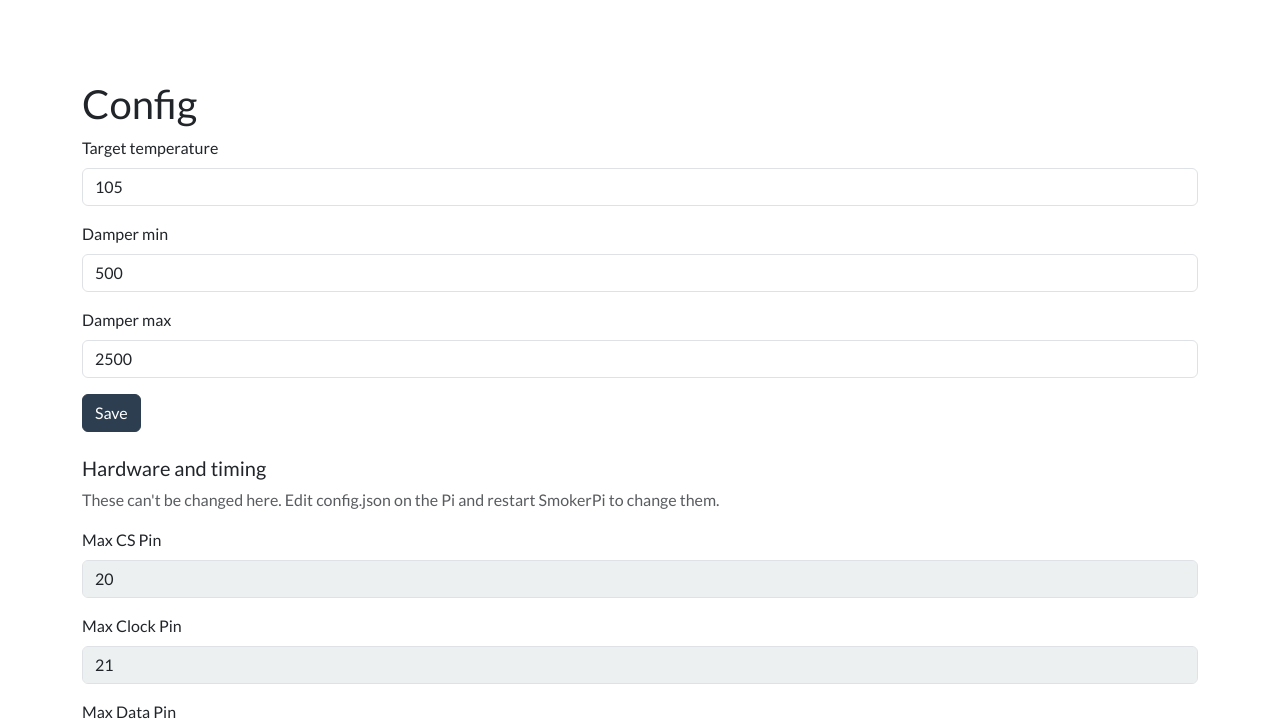
clearing the required target temperature keeps the form; Save shows an error and does not post
The width and height of the screenshot is (1280, 727).
Clear the field labelled "Target temperature" at point(640, 187), box [82,168,1198,206]
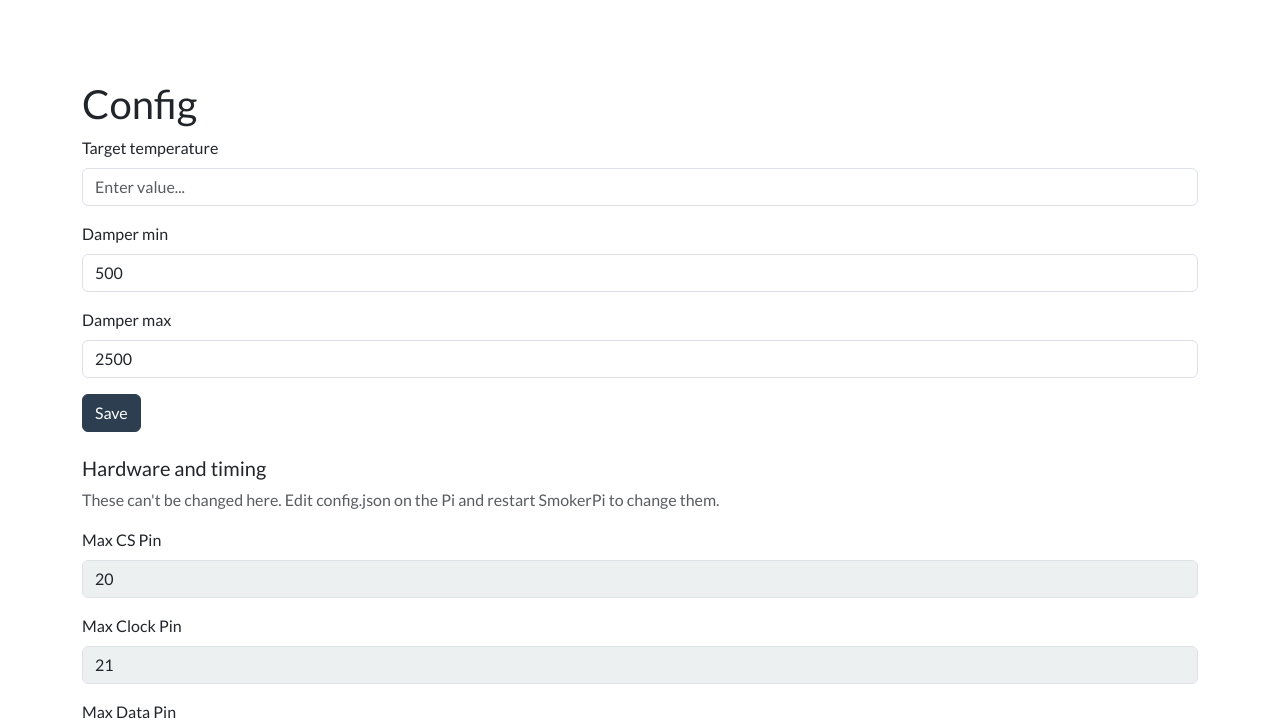
Click the button "Save" at point(111, 413), box [82,394,141,432]
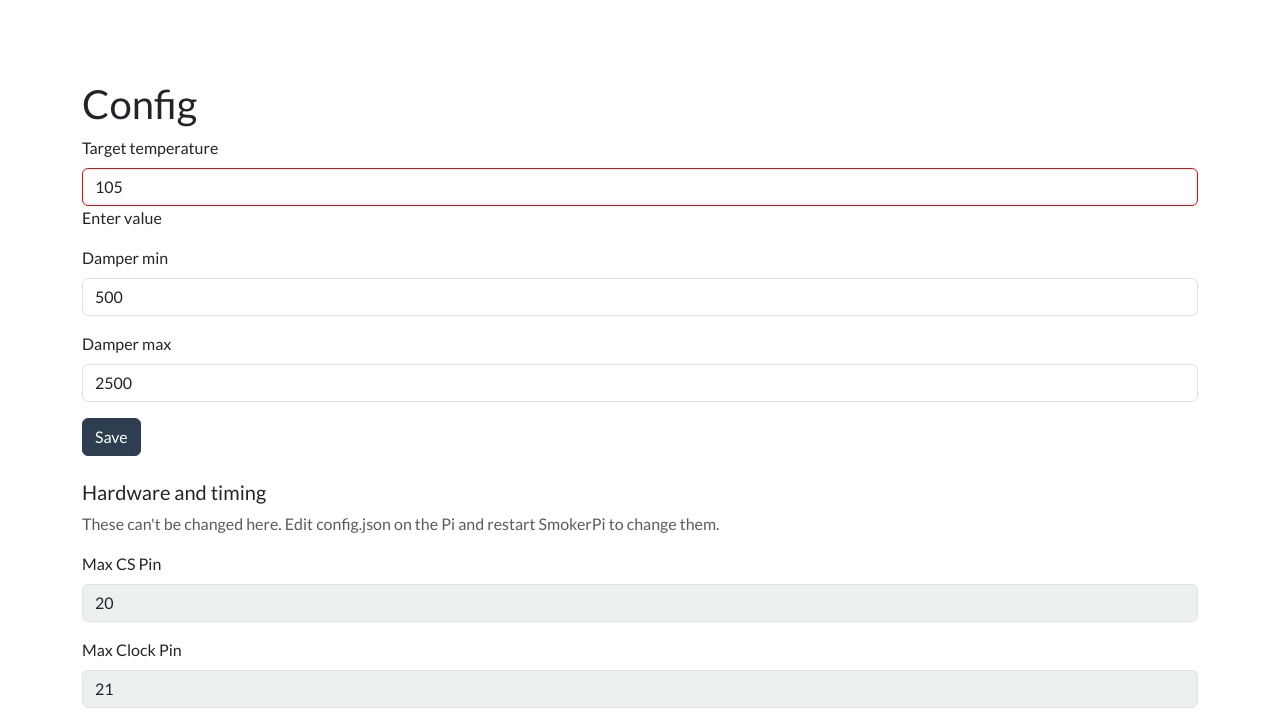
Result: the text "Enter value" is shown at [82,208,162,227]
